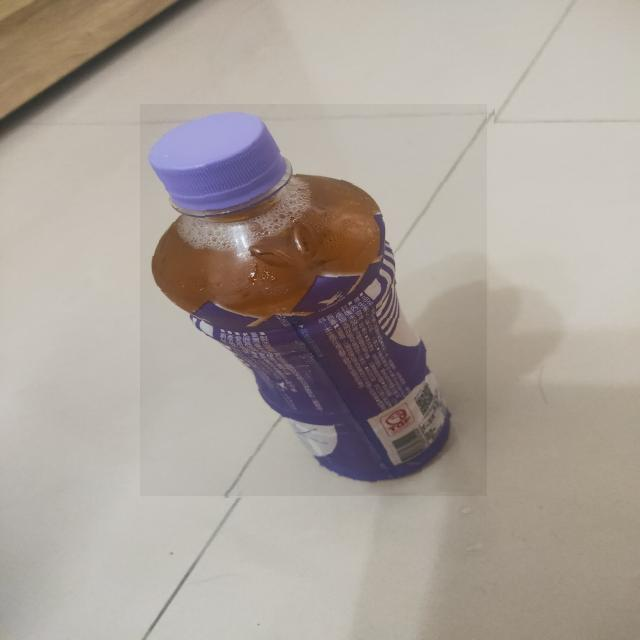ChaLiWong_TsingXinOolong: (141, 105, 487, 496)
